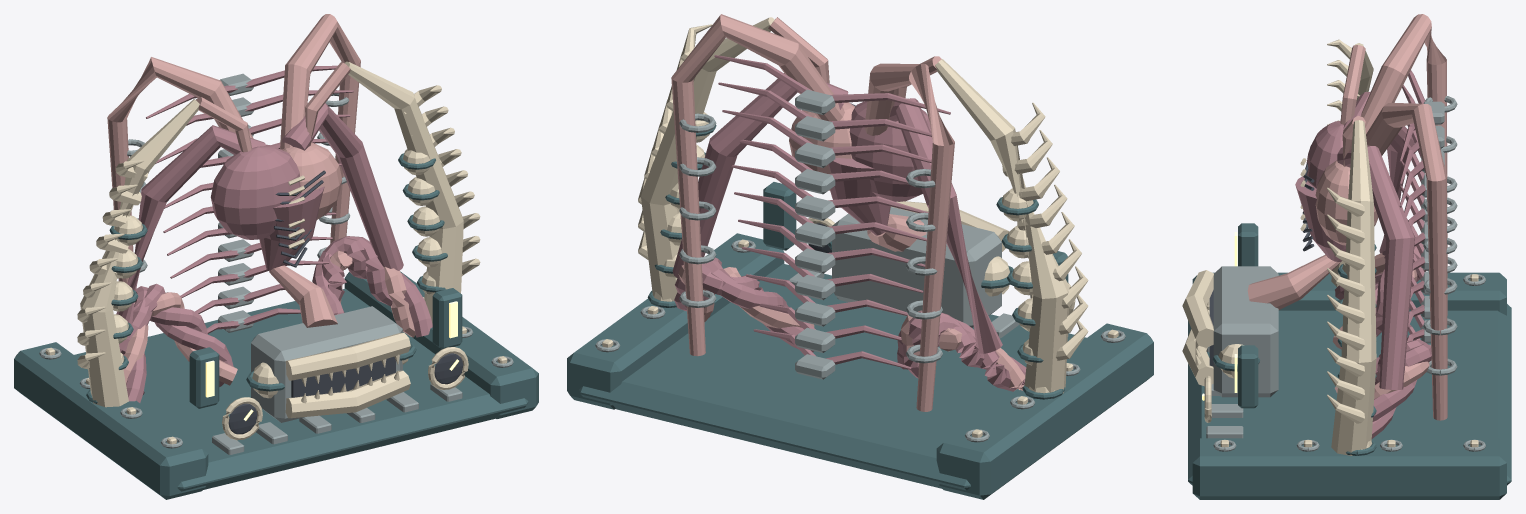
The model's file is siphon_heart.glb.
3 renders of one model, left to right at view 1: azimuth 30°, elevation 25°; view 2: azimuth 150°, elevation 25°; view 3: azimuth 270°, elevation 25°, orthographic. The views are drawn at different scales.
Visible parts, largest first — view 1: siphon_heart_petrol, siphon_heart_bruised, siphon_heart_warm, siphon_heart_suture, siphon_heart_worn, siphon_heart_deep, siphon_heart_sick; view 2: siphon_heart_petrol, siphon_heart_bruised, siphon_heart_warm, siphon_heart_suture, siphon_heart_worn; view 3: siphon_heart_petrol, siphon_heart_suture, siphon_heart_warm, siphon_heart_bruised, siphon_heart_worn, siphon_heart_deep.
Part boxes in pixels (x1,y1,x2,y2): siphon_heart_petrol: [14, 153, 538, 499]; siphon_heart_bruised: [116, 65, 432, 402]; siphon_heart_warm: [45, 61, 507, 444]; siphon_heart_suture: [107, 14, 415, 385]; siphon_heart_worn: [39, 73, 513, 454]; siphon_heart_deep: [228, 170, 463, 434]; siphon_heart_sick: [205, 301, 458, 420]; siphon_heart_petrol: [567, 125, 1153, 499]; siphon_heart_bruised: [672, 55, 1026, 391]; siphon_heart_warm: [602, 17, 1118, 437]; siphon_heart_suture: [671, 14, 1025, 411]; siphon_heart_worn: [595, 89, 1125, 442]; siphon_heart_petrol: [1188, 223, 1511, 499]; siphon_heart_suture: [1247, 14, 1447, 420]; siphon_heart_warm: [1182, 39, 1478, 455]; siphon_heart_bruised: [1295, 70, 1431, 438]; siphon_heart_worn: [1206, 96, 1485, 451]; siphon_heart_deep: [1209, 163, 1314, 367].
Bounding box in the file's own units: 5.07 × 4.17 × 3.56.
